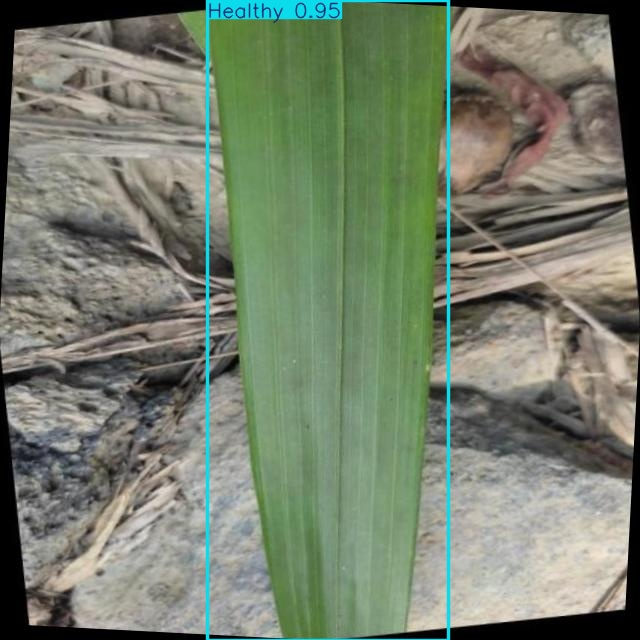Healthy: (207, 1, 449, 640)
